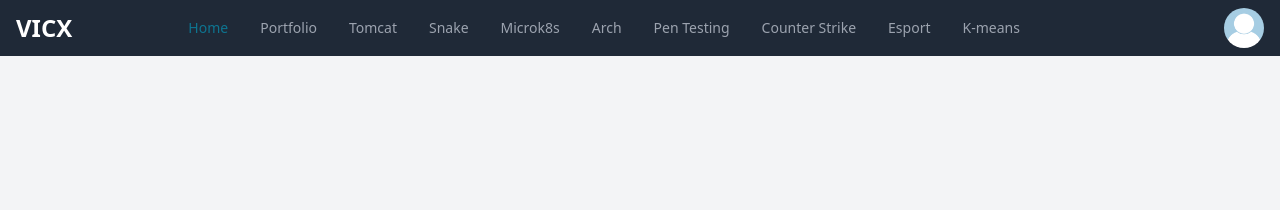
Test case: VicxNavbar › Interactions › expands user dropdown with userinfo when avatar is clicked
This screenshot has width=1280, height=210.
Click the button with test id "flowbite-avatar". click: coordinates (1244, 28)
box: [1224,8,1264,48]
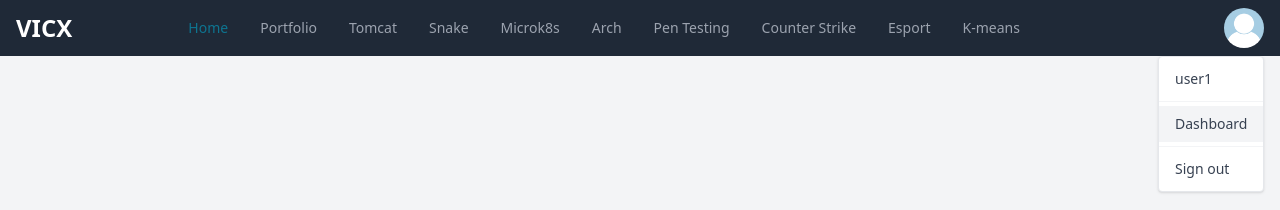
Expected: the text "user1" is shown, [1175,69,1212,88]
Expected: the button "Dashboard" is shown, [1159,106,1264,142]
Expected: the button "Sign out" is shown, [1159,151,1264,187]
